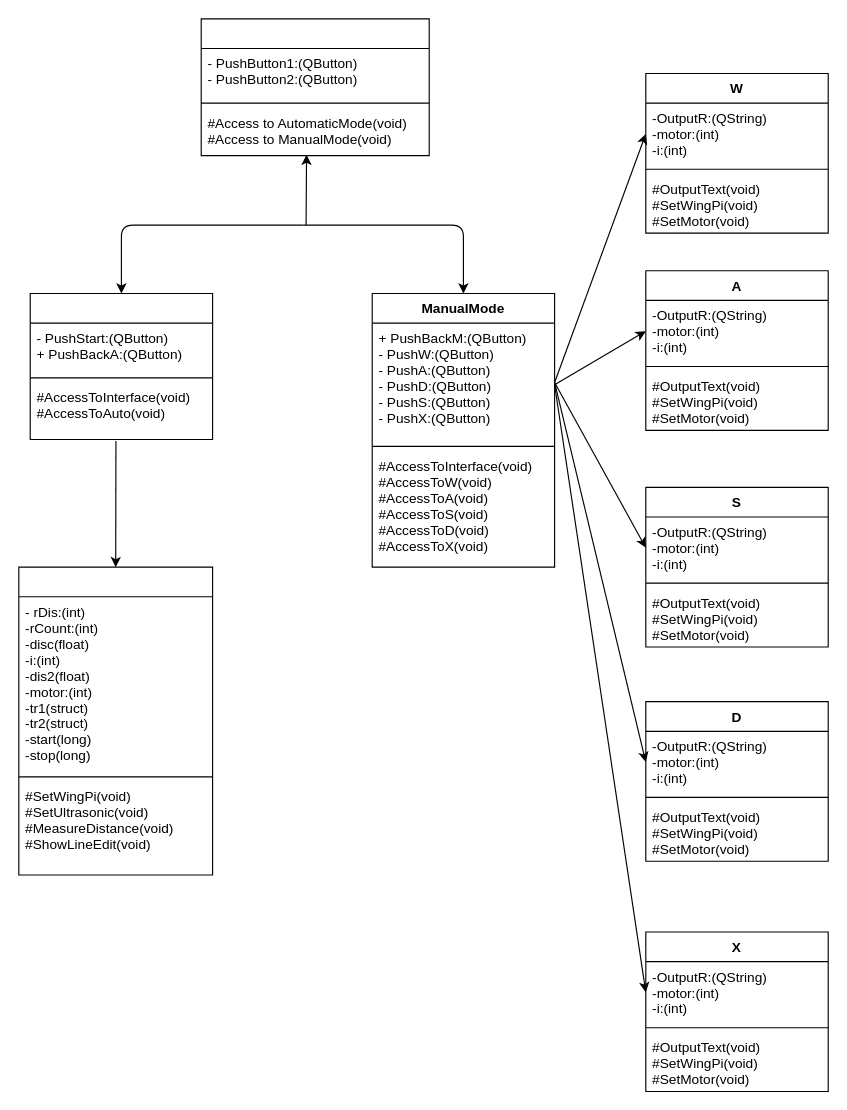
The diagram is 847 pixels wide and 1110 high, and some of its shapes have lost their labels. Here are the shapes that lost their labels. From the top down, the box of each, then its label:
(200, 18, 429, 156): Interface
(29, 292, 213, 439): AutomaticMode
(18, 566, 213, 875): Auto
